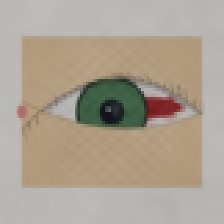hemorrhage_spot: (110, 74, 192, 140)
